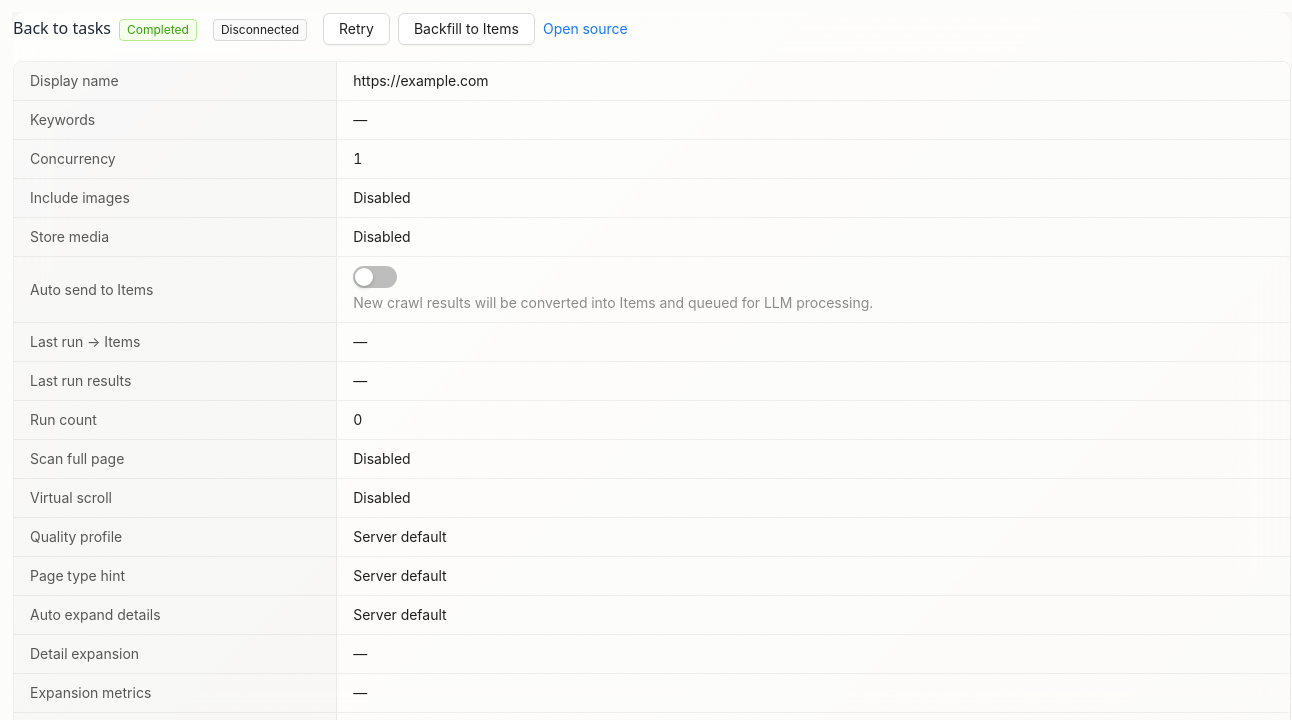
Scenario: CrawlTaskDetail actions（retry / ingest / backfill / create item） › backfill：确认弹窗后单批执行，变量 {taskId, after:null, limit:50, onlyMissing:true}，成功提示与 refetch
Expected: the text "Concurrency" is shown, x1=30 y1=150 x2=116 y2=167
Click the button "Backfill to Items".
click(466, 29)  # box x1=398 y1=13 x2=535 y2=45
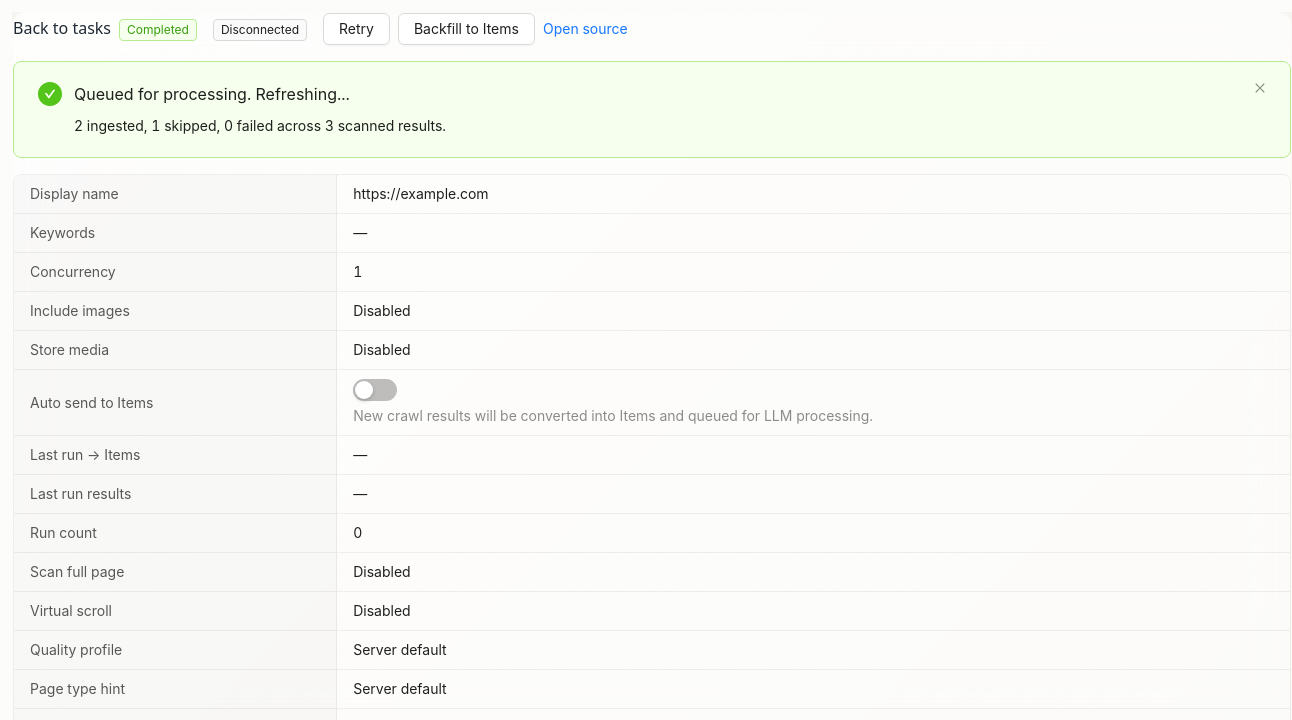
Expected: the text "Queued for processing. Refreshing..." is shown, x1=74 y1=84 x2=350 y2=104
Expected: the text "2 ingested, 1 skipped, 0 failed across 3 scanned results." is shown, x1=74 y1=117 x2=446 y2=134
